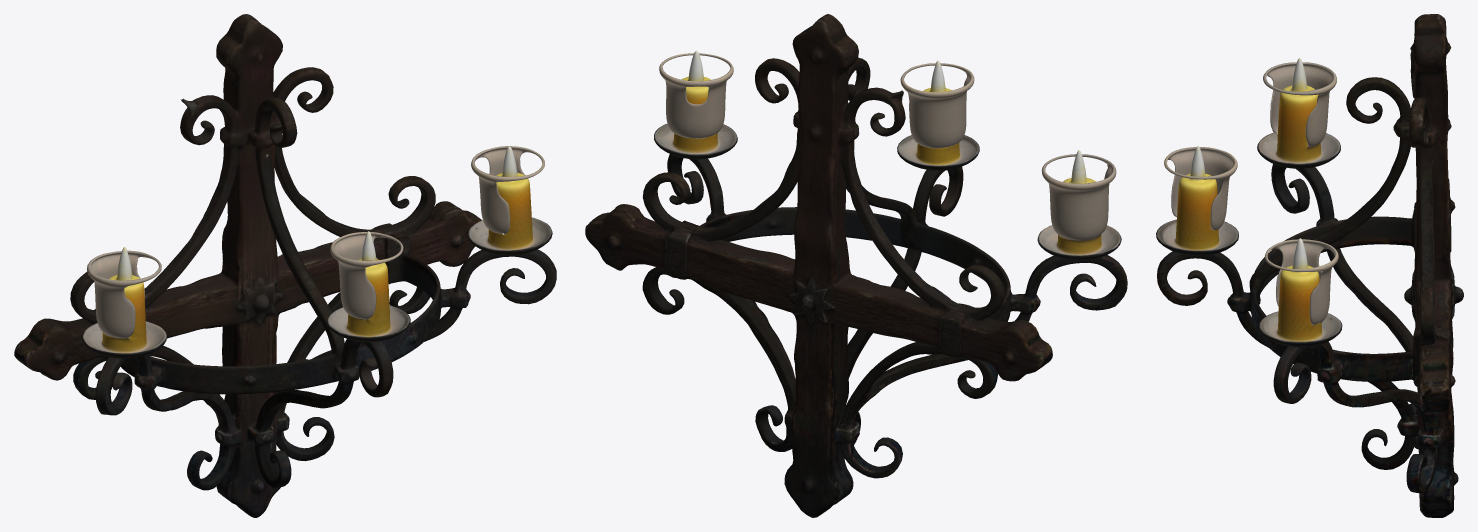
The model's file is wrought-iron-sconce.glb.
The picture shows the model from 3 angles, left to right: view 1: azimuth 30°, elevation 25°; view 2: azimuth 150°, elevation 25°; view 3: azimuth 270°, elevation 25°; orthographic projection.
Visible parts, largest first — view 1: tripo_node_4039d2e8; view 2: tripo_node_4039d2e8; view 3: tripo_node_4039d2e8.
Part boxes in pixels (left/top/right/bottom): tripo_node_4039d2e8: left=14, top=14, right=556, bottom=517; tripo_node_4039d2e8: left=585, top=14, right=1127, bottom=517; tripo_node_4039d2e8: left=1156, top=14, right=1463, bottom=517.
Size of the model in its own units: 94.71 by 97.92 by 54.74.
Materials: 1 (1 with a texture image).
